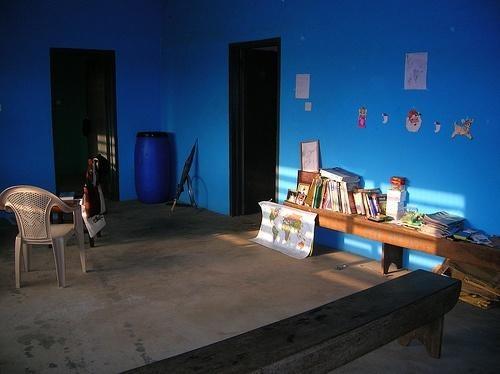chair: (3, 186, 87, 289)
